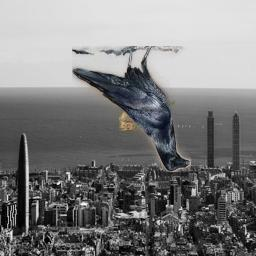Crow: (72, 46, 191, 172)
Sparrow: (119, 99, 175, 131)
